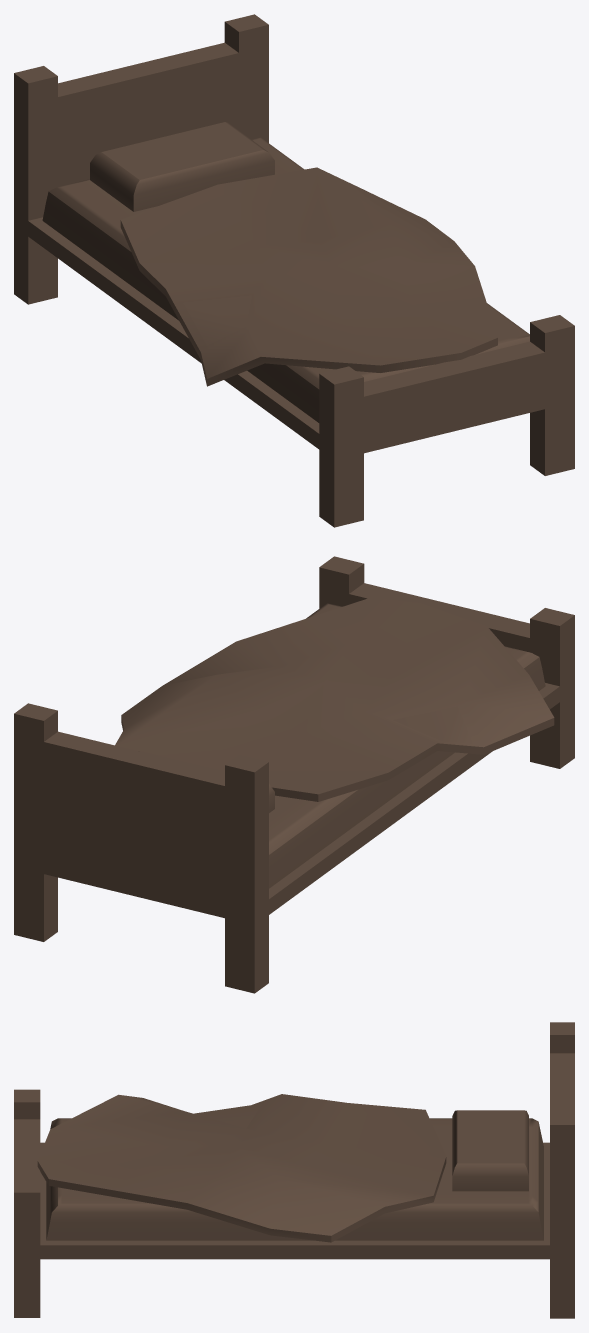
The model's file is cama.fbx.
The picture shows the model from 3 angles, top to bottom: view 1: azimuth 30°, elevation 25°; view 2: azimuth 150°, elevation 25°; view 3: azimuth 270°, elevation 25°; orthographic projection. The views are drawn at different scales.
Parts seen in each view (by area): view 1: Cama, sabana; view 2: Cama, sabana; view 3: Cama, sabana.
Part boxes in pixels (x1,y1,x2,y2): Cama: (14, 14, 574, 527); sabana: (120, 167, 497, 386); Cama: (14, 556, 574, 993); sabana: (115, 597, 554, 801); Cama: (14, 1022, 574, 1318); sabana: (37, 1094, 446, 1242).
Bounding box in the file's own units: 1.94 × 1.26 × 3.3.
